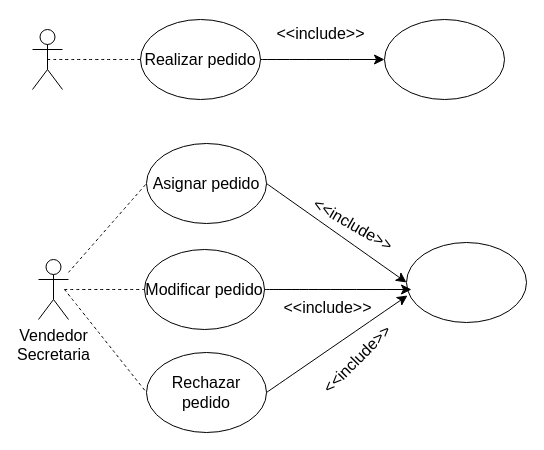
Image size: 544x450. Some labels were removed from this diagram. The box of each missing label's shape, as (x1, y1, x2, y2) in pixels:
Cliente: (32, 28, 62, 90)
Ingresar datos del pedido: (384, 18, 504, 100)
Verificar/listar pedido: (406, 242, 526, 322)
